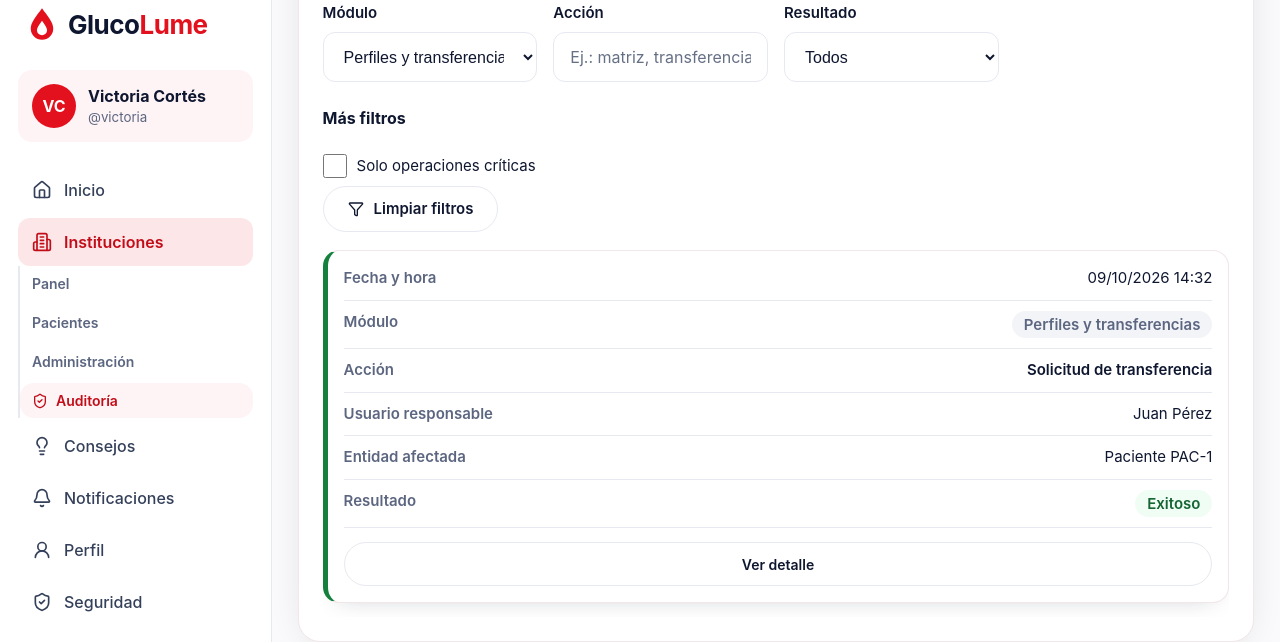
it: Detalle de auditoría en una página independiente › abre en su ruta, vuelve conservando los filtros y no se despliega bajo el listado
(page scrolled)
Expected: the dropdown labelled "Módulo" shows "Perfiles y transferencias", [323,32,537,82]
Click the link with aria-label "Ver detalle: Solicitud de transferencia": (778, 564) [344,542,1212,586]
(page scrolled)
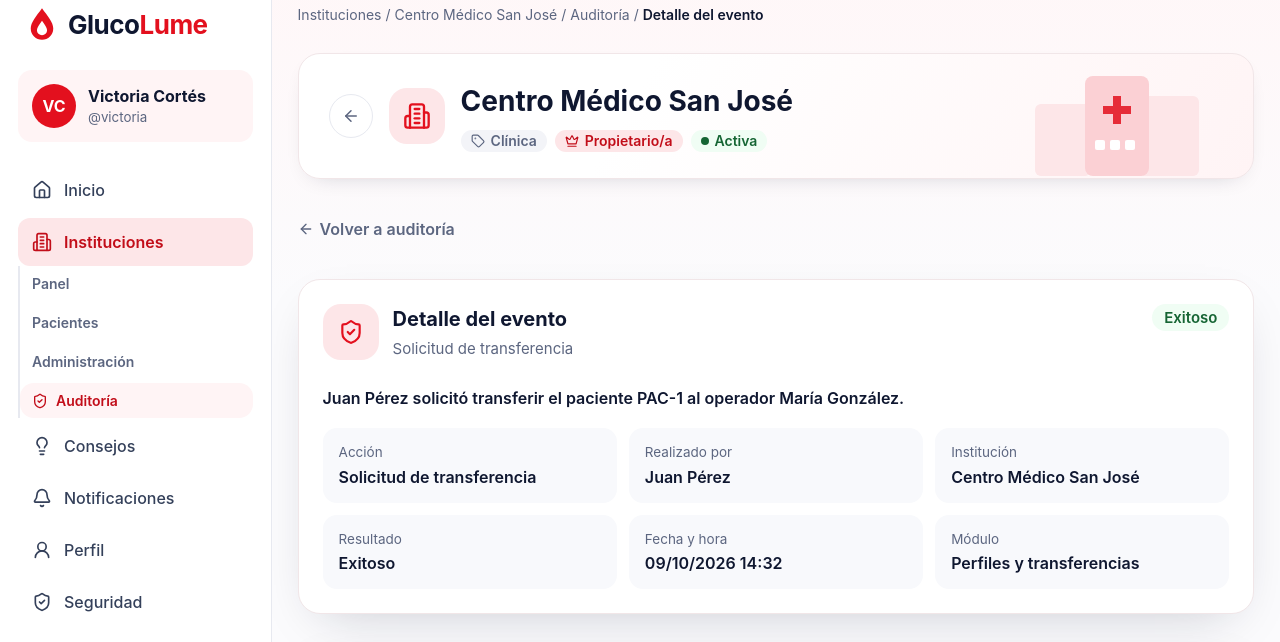
Expected: the heading "Detalle del evento" is shown, [393,304,573,334]
Expected: the text "Juan Pérez solicitó transferir el paciente PAC-1 al operador María González." is shown, [323,388,904,408]
Expected: the text "Centro Médico San José" is shown, [951,466,1140,486]
Click the link "Volver a auditoría": (376, 229) [298,219,455,239]
(page scrolled)
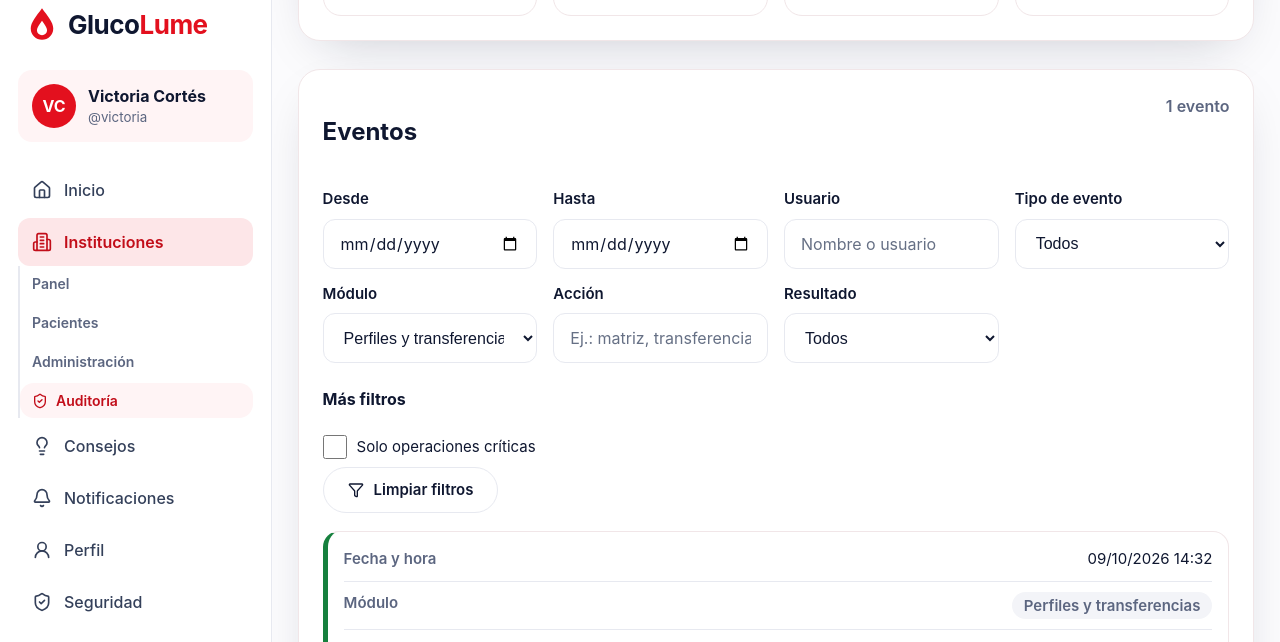
Expected: the dropdown labelled "Módulo" shows "Perfiles y transferencias", [323,313,537,363]
